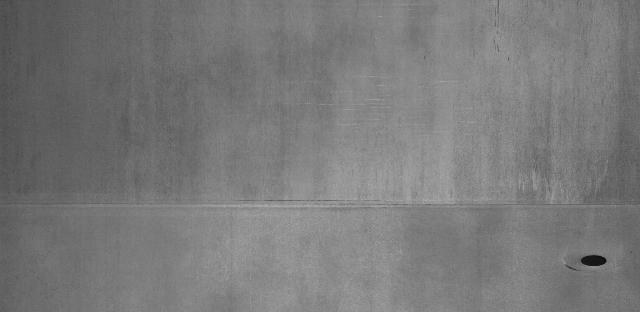punching_hole: (578, 251, 613, 270)
welding_line: (4, 190, 637, 218)
